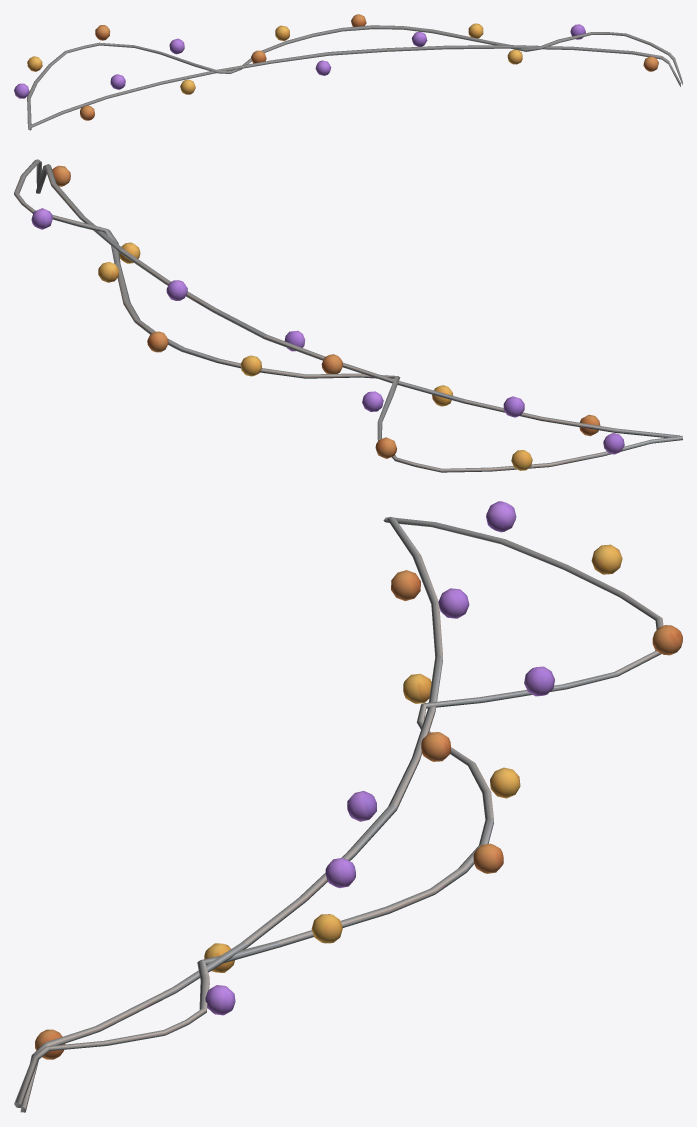
Rendered from pref_sm_beach_WSJ_deng03_c_lv3.fbx.
3 views of the same model, one above another, from view 1: azimuth 30°, elevation 25°; view 2: azimuth 150°, elevation 25°; view 3: azimuth 270°, elevation 25° (orthographic). The views are drawn at different scales.
Visible parts, largest first — view 1: pref_sm_beach_WSJ_deng03_c_lv3; view 2: pref_sm_beach_WSJ_deng03_c_lv3; view 3: pref_sm_beach_WSJ_deng03_c_lv3.
Boxes of the visible parts, bbox=[...] form: pref_sm_beach_WSJ_deng03_c_lv3: bbox=[14, 14, 682, 130]; pref_sm_beach_WSJ_deng03_c_lv3: bbox=[14, 159, 682, 472]; pref_sm_beach_WSJ_deng03_c_lv3: bbox=[14, 501, 682, 1112].
Bounding box in the file's own units: 8.07 × 0.6254 × 4.21.
